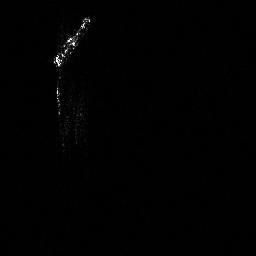ship: (48, 13, 93, 70)
